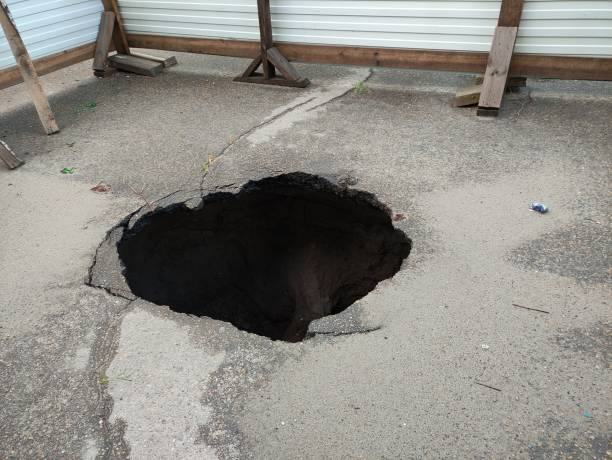Crack: (200, 96, 318, 198), (304, 67, 375, 113)
Spalling: (85, 171, 414, 344)
